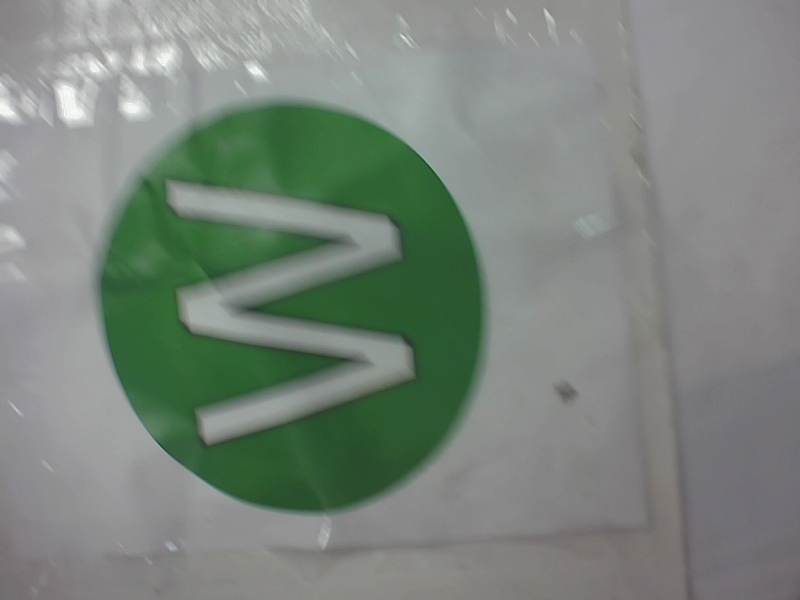areaB: (78, 97, 505, 522)
